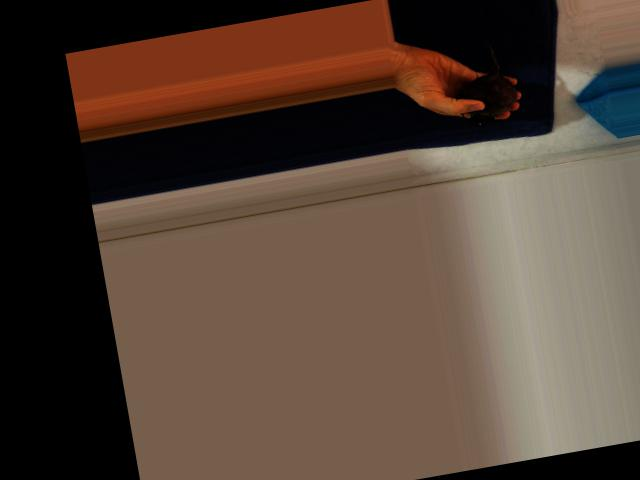beet: (449, 37, 521, 128)
